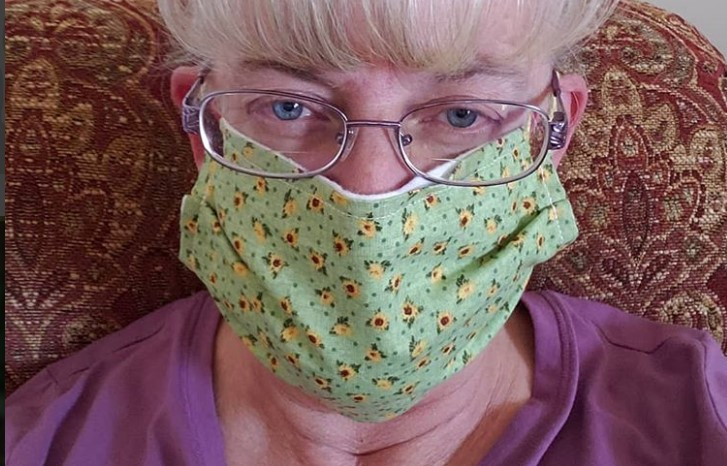face_with_mask: (158, 1, 605, 425)
